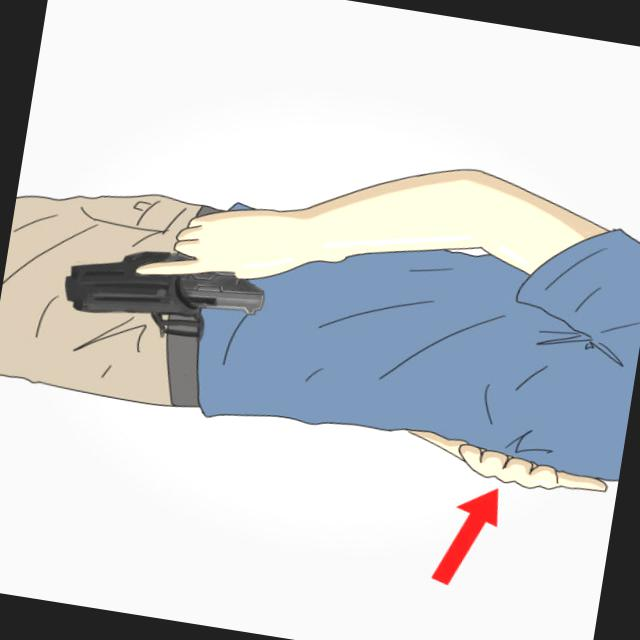handgun: (48, 166, 276, 347)
